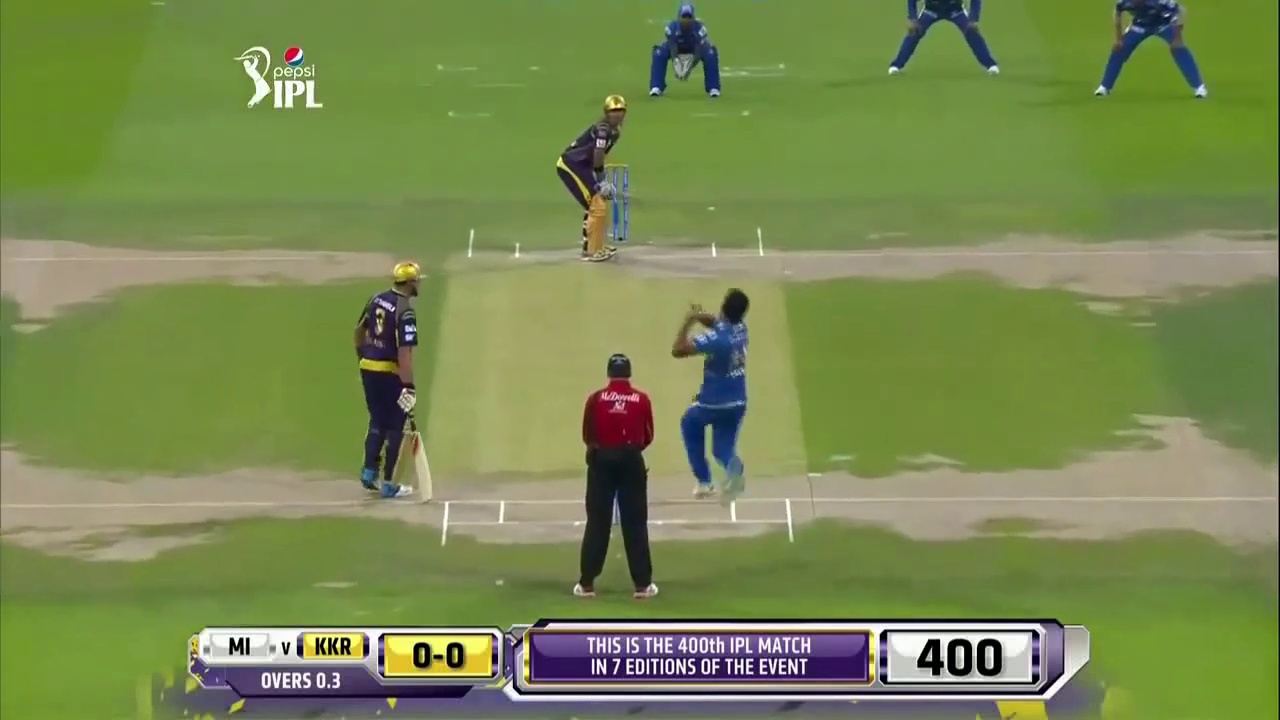bat: (405, 413, 435, 503)
